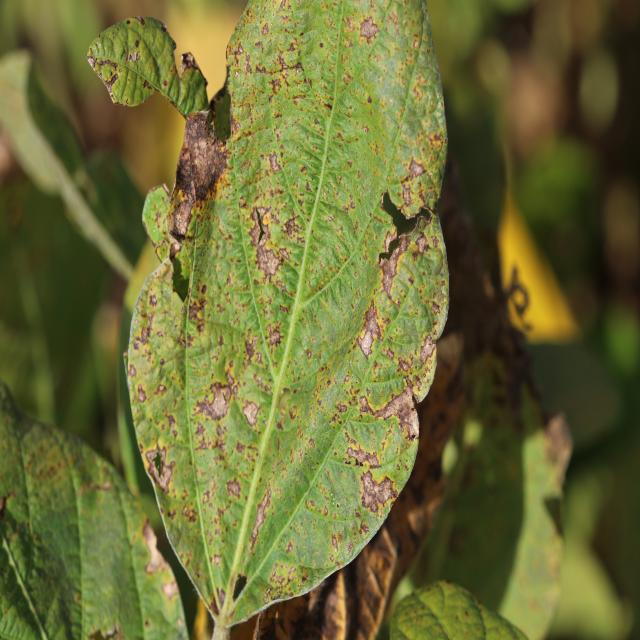Bacterial_Blight: (239, 209, 278, 256), (141, 519, 172, 578), (359, 468, 396, 514), (144, 440, 175, 494), (250, 483, 273, 547), (357, 304, 383, 359), (198, 378, 237, 413), (344, 440, 381, 469), (419, 334, 437, 367), (359, 16, 379, 42), (406, 156, 427, 180), (266, 323, 284, 350), (188, 297, 206, 323), (276, 52, 299, 72), (244, 334, 258, 362), (226, 478, 242, 499), (415, 232, 429, 255), (401, 183, 414, 207), (268, 152, 282, 173), (139, 324, 150, 345), (136, 383, 147, 403), (398, 358, 412, 373), (330, 534, 339, 553), (212, 553, 222, 567), (130, 51, 140, 62), (143, 79, 152, 90), (367, 95, 372, 104), (135, 40, 140, 48)
Soybean: (125, 0, 449, 632)
